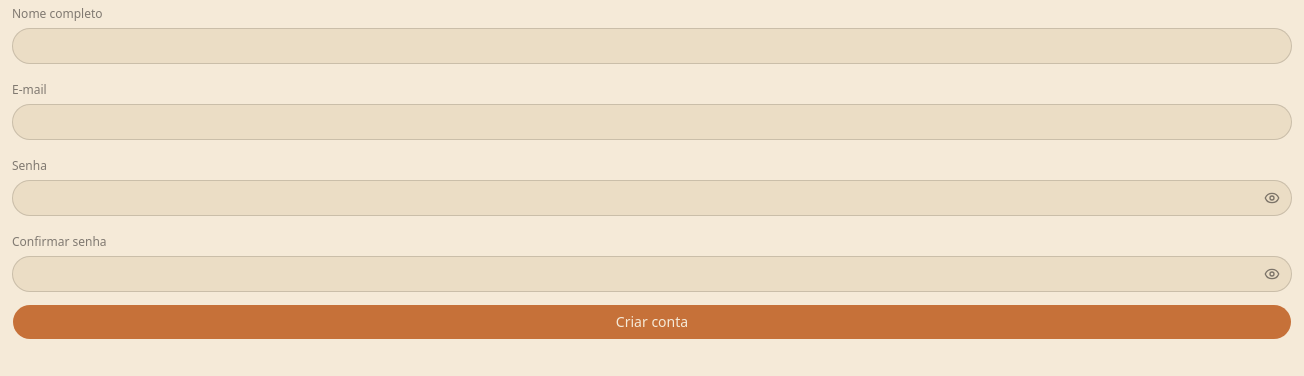
Test: RegisterForm › blocks mismatched passwords
The image size is (1304, 376).
In the field labelled "Nome completo": {"x": 652, "y": 46} [12,28,1292,64], type "Ana Souza"
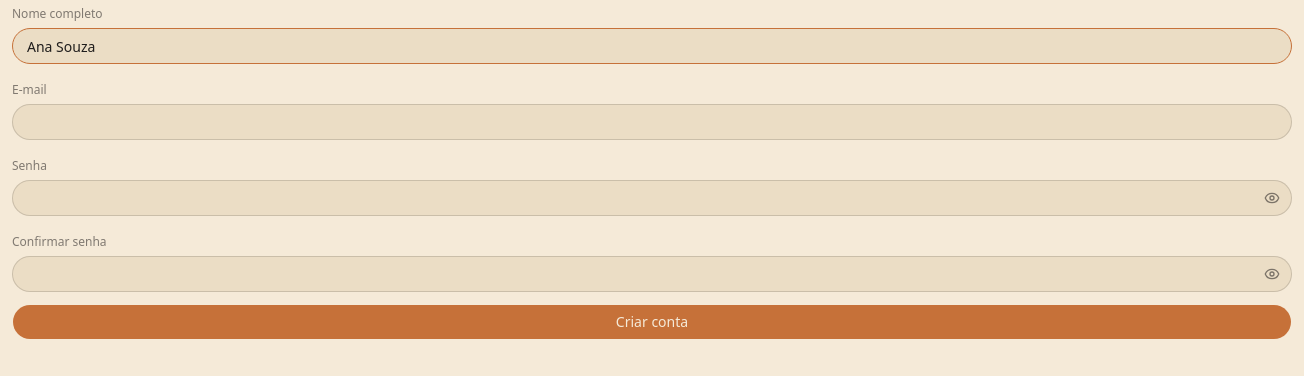
In the field labelled "E-mail": {"x": 652, "y": 122} [12,104,1292,140], type "ana@test.com"
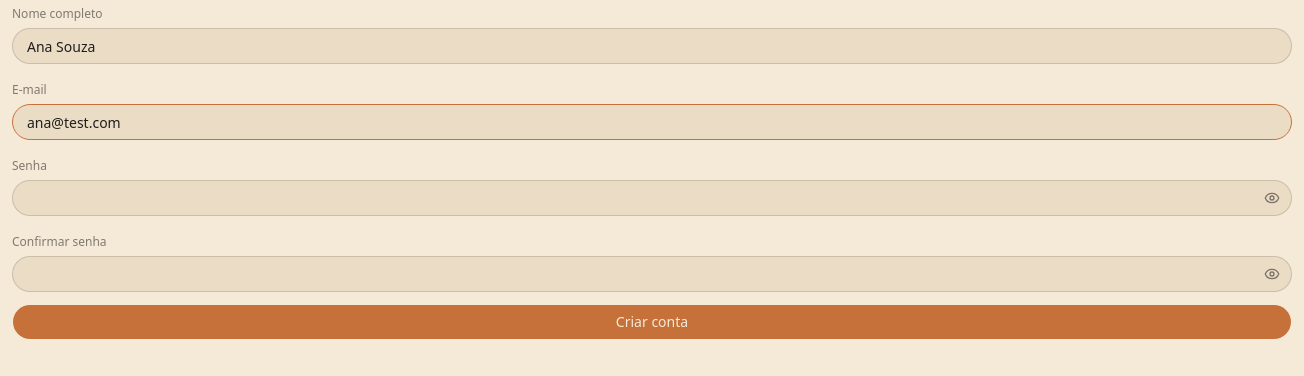
In the password field labelled "Senha": {"x": 652, "y": 198} [12,180,1292,216], type "Senha@123"
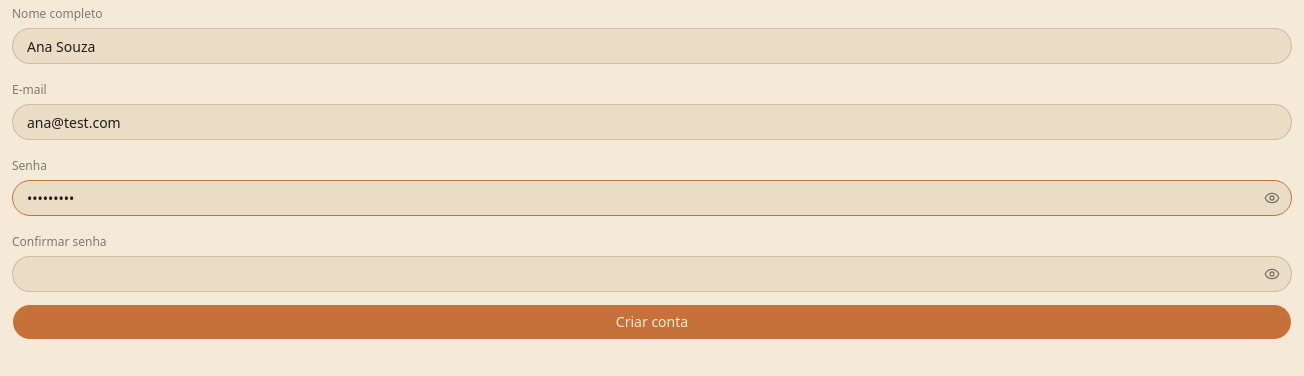
In the password field labelled "Confirmar senha": {"x": 652, "y": 274} [12,256,1292,292], type "Senha@124"
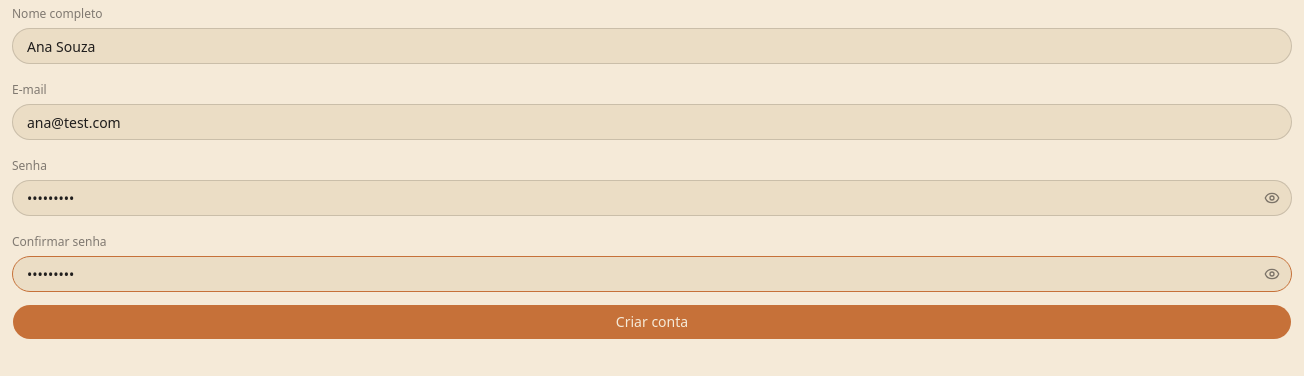
Click the button "Criar conta": {"x": 652, "y": 322} [12,304,1292,340]
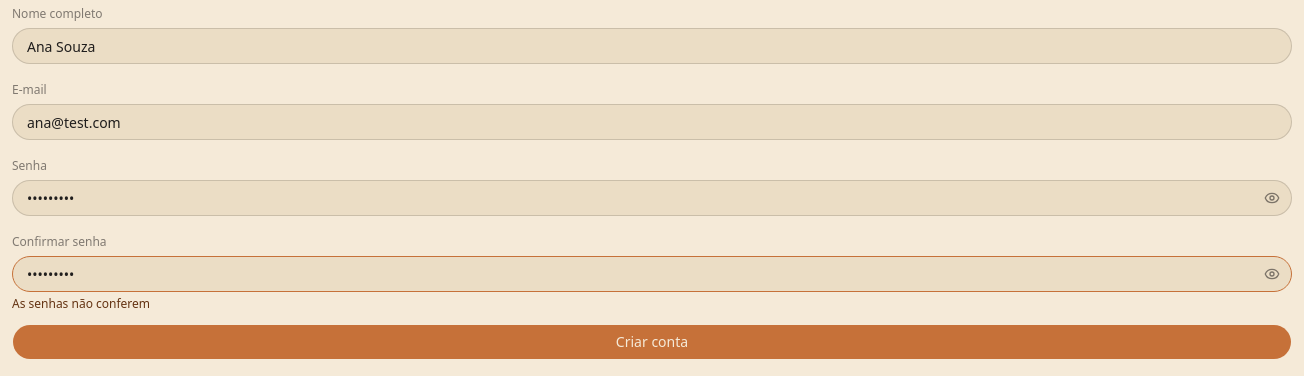
Expected: the text "As senhas não conferem" is shown, [12,295,150,312]
